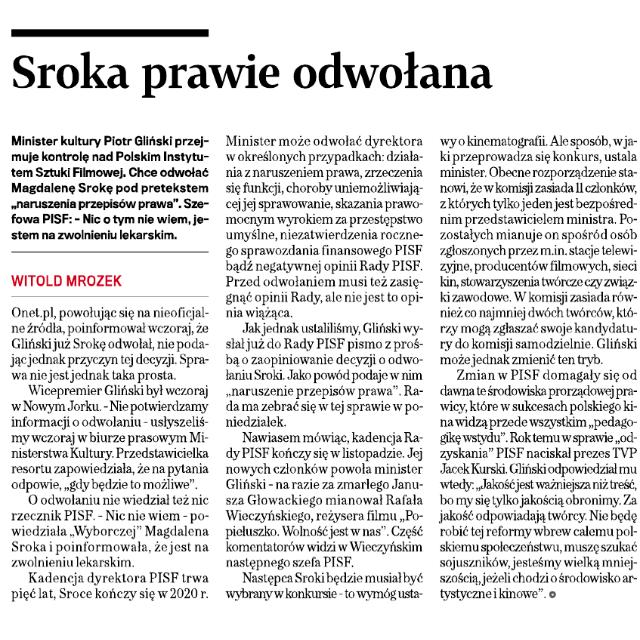author: (7, 268, 132, 292)
body: (218, 130, 428, 606), (434, 132, 640, 608), (3, 304, 215, 606)
lead: (5, 131, 214, 247)
title: (7, 44, 501, 104)
